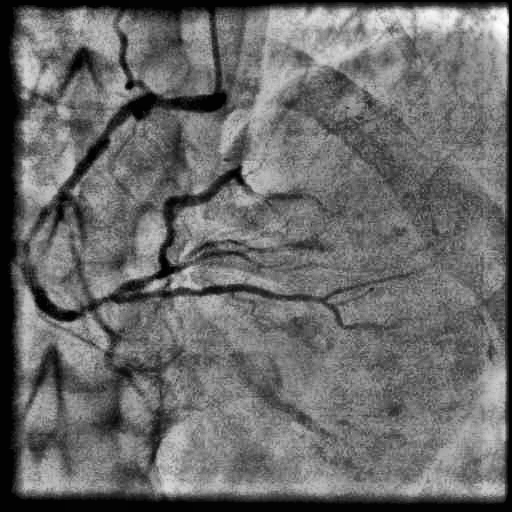pborca: (116, 169, 284, 293)
pda: (113, 284, 363, 330)
rca: (21, 93, 192, 321)
